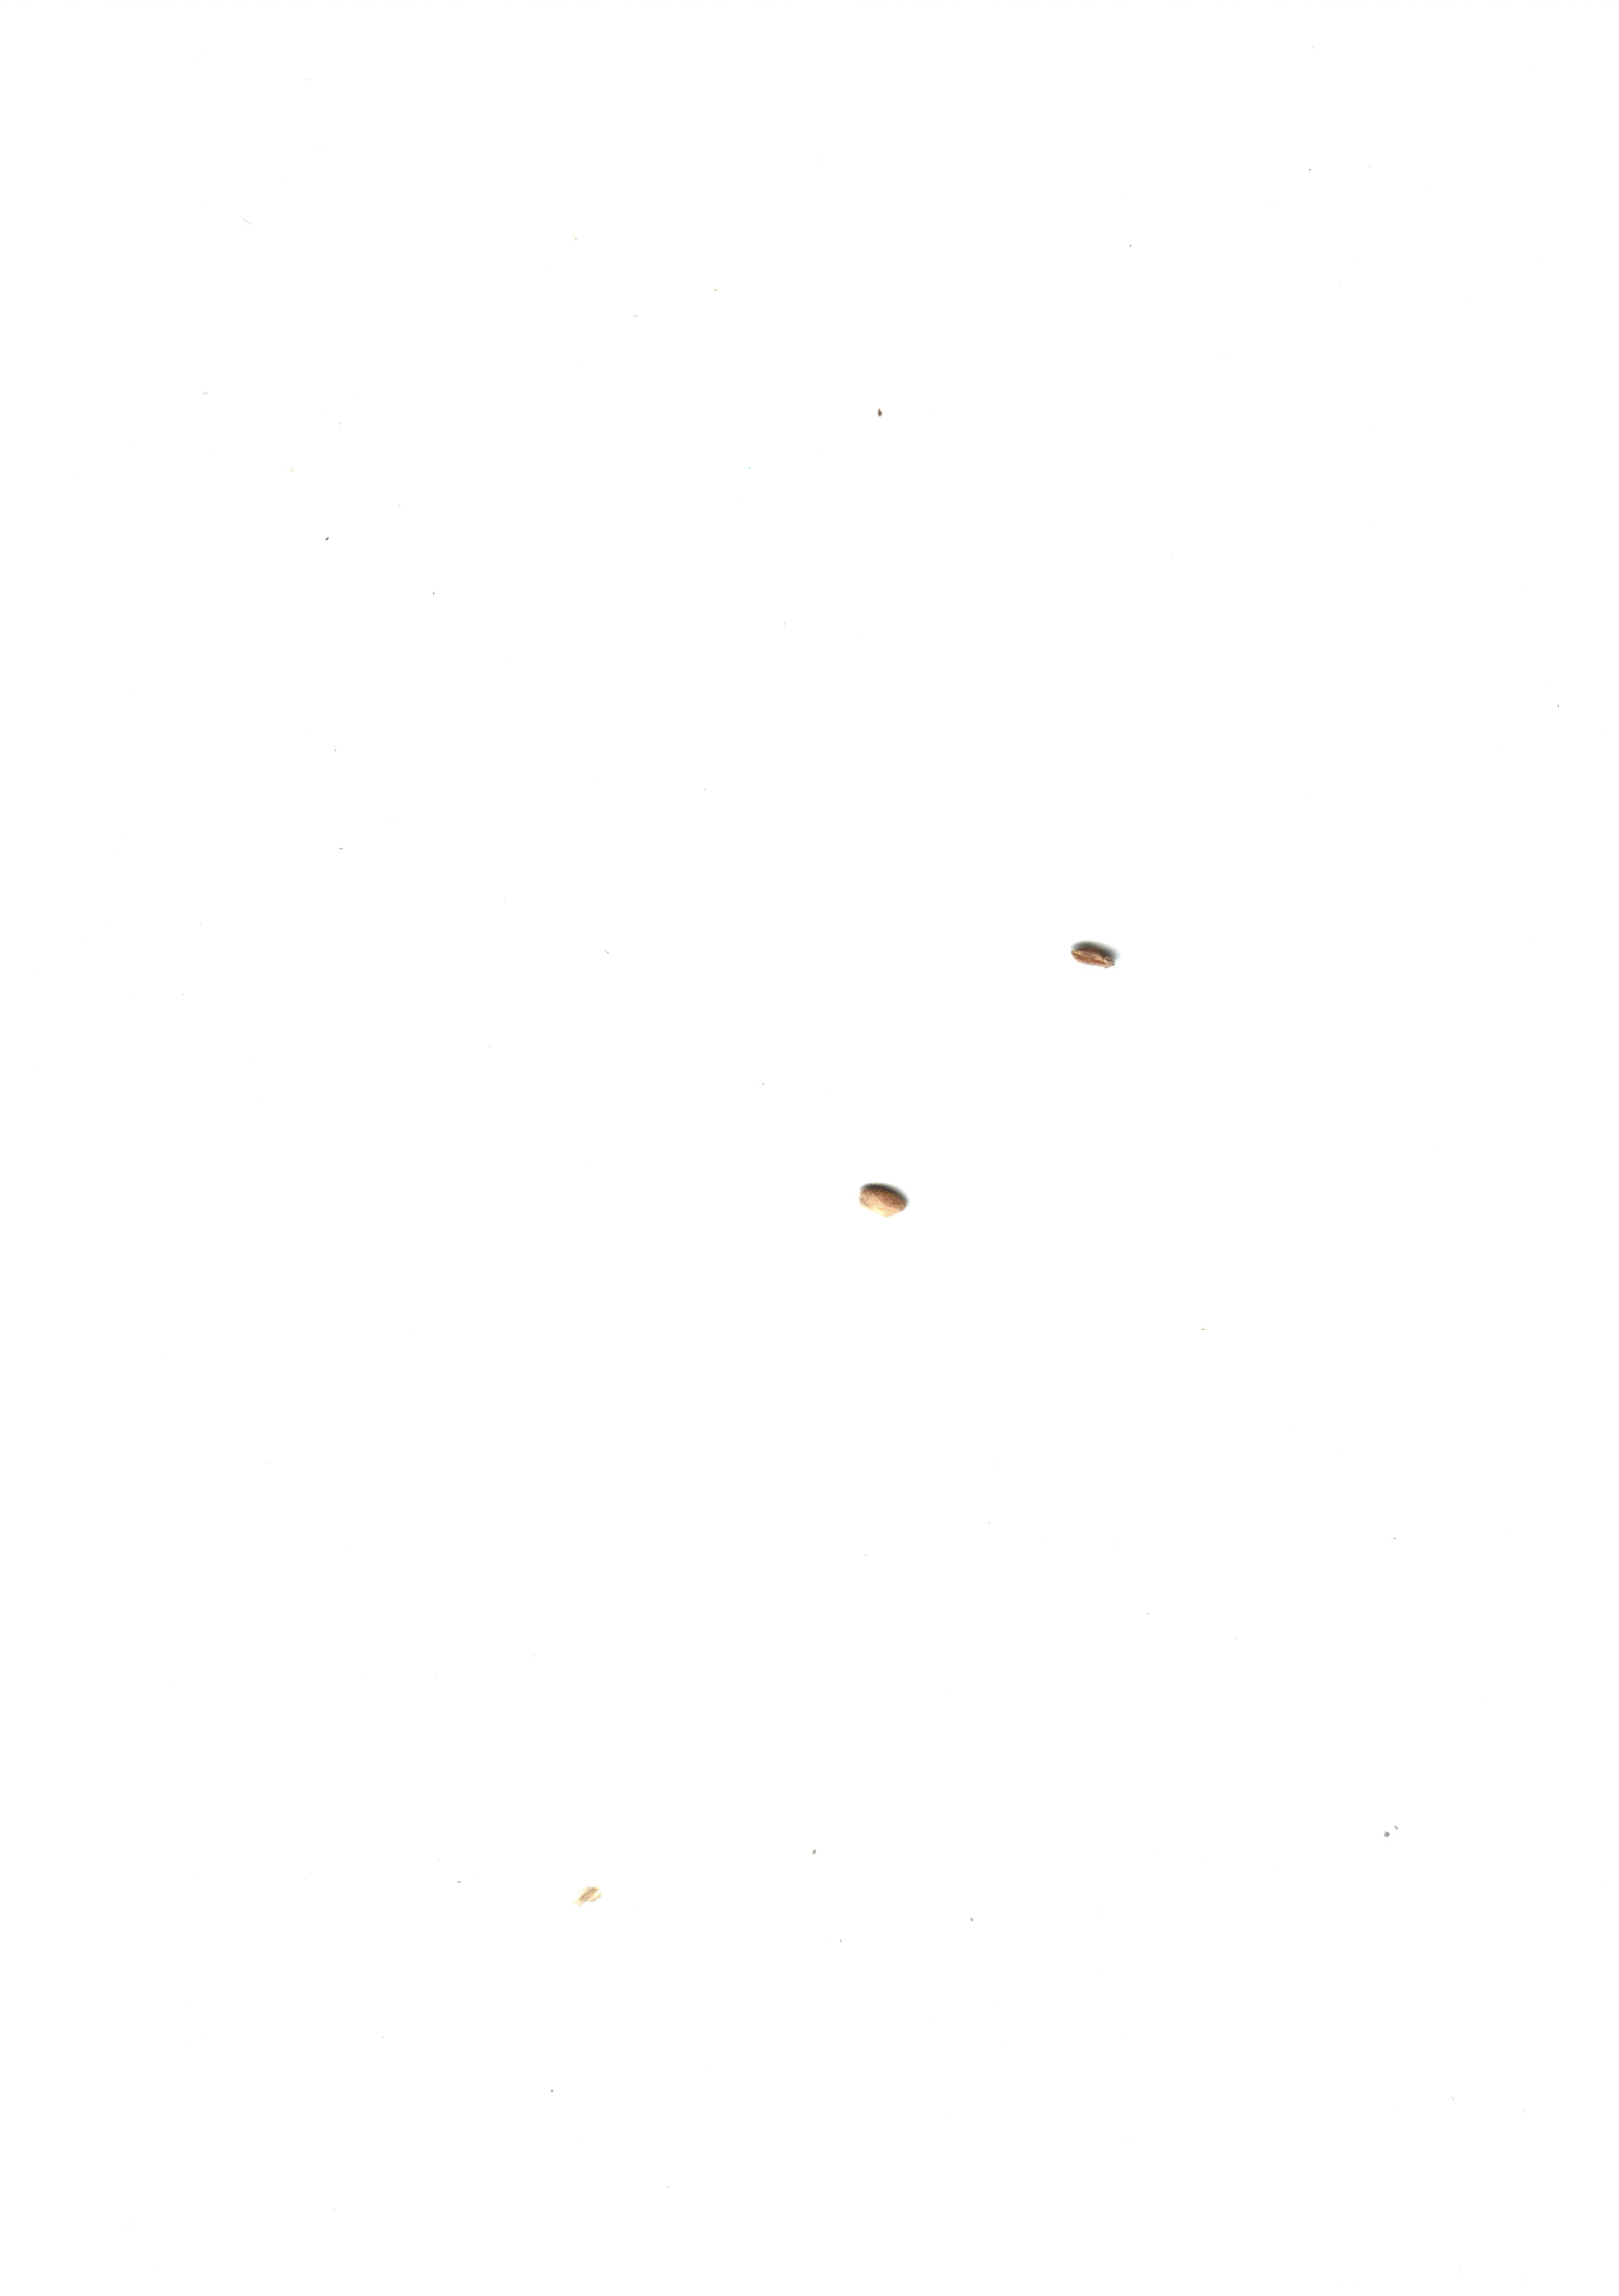grains_2mm: (1057, 922, 1139, 1001), (846, 1153, 927, 1232)
